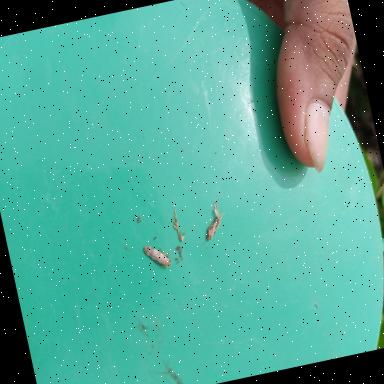pbw: (199, 197, 230, 240), (142, 240, 172, 271)
